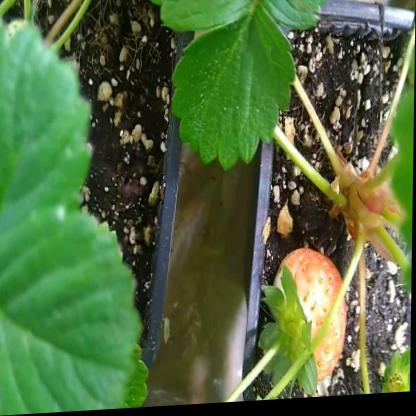ripe: (272, 249, 350, 387)
